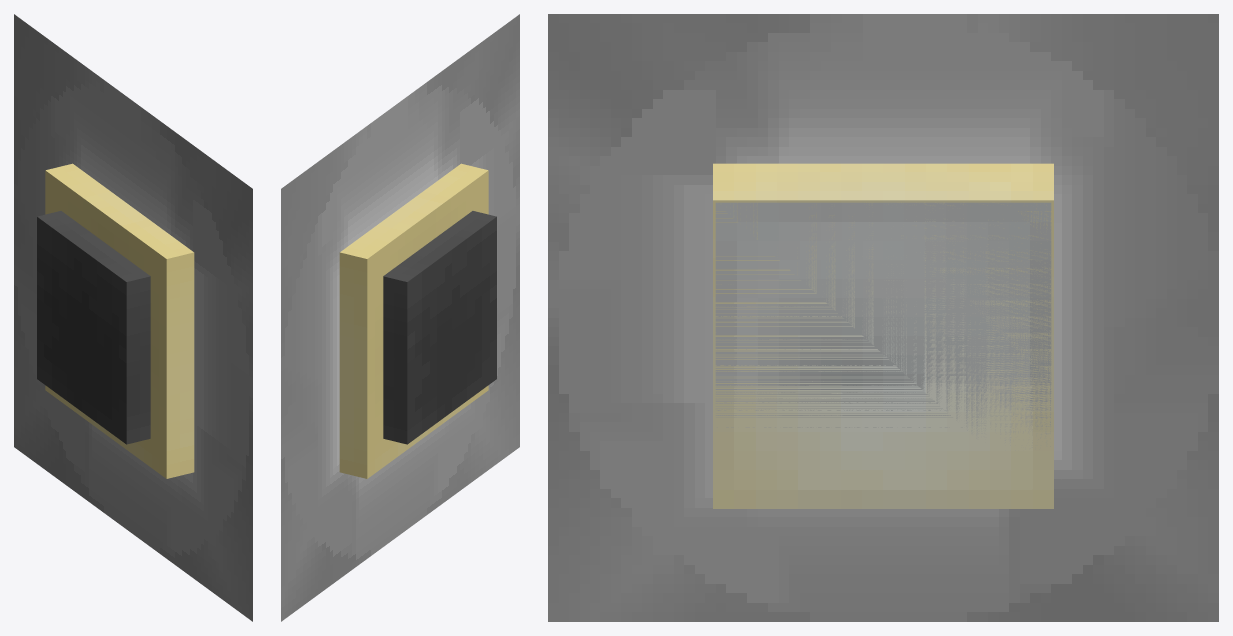
The model's file is SimpleLamp.obj.
The picture shows the model from 3 angles, left to right: view 1: azimuth 30°, elevation 25°; view 2: azimuth 150°, elevation 25°; view 3: azimuth 270°, elevation 25°; orthographic projection. The views are drawn at different scales.
Visible parts, largest first — view 1: lightAlphaNoDepth, socket_unlightable, socket_lightable; view 2: lightAlphaNoDepth, socket_unlightable, socket_lightable; view 3: lightAlphaNoDepth, socket_lightable, socket_unlightable_broken.
Boxes of the visible parts, <box> form: lightAlphaNoDepth: <box>14,14,252,621</box>; socket_unlightable: <box>37,211,150,444</box>; socket_lightable: <box>45,163,194,478</box>; lightAlphaNoDepth: <box>281,14,519,621</box>; socket_unlightable: <box>383,211,496,444</box>; socket_lightable: <box>339,163,488,478</box>; lightAlphaNoDepth: <box>548,14,1218,621</box>; socket_lightable: <box>713,163,1053,508</box>; socket_unlightable_broken: <box>715,202,1051,450</box>.
Size of the model in its own units: 0.2539 by 1 by 1.
Materials: 2 (2 with a texture image).
